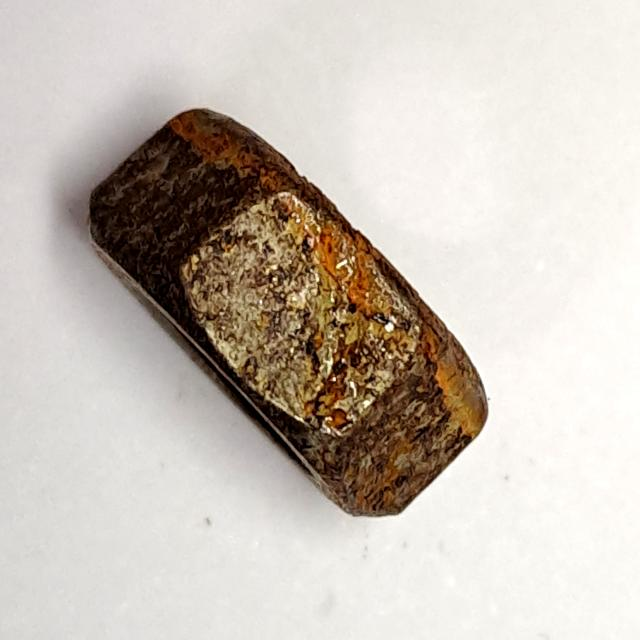Side_Rust: (66, 102, 502, 530)
